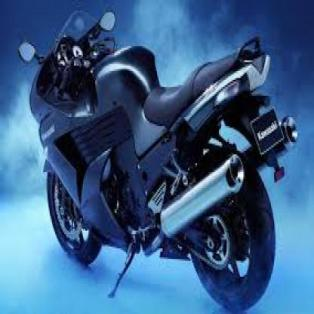Motocicleta: (14, 0, 300, 312)
